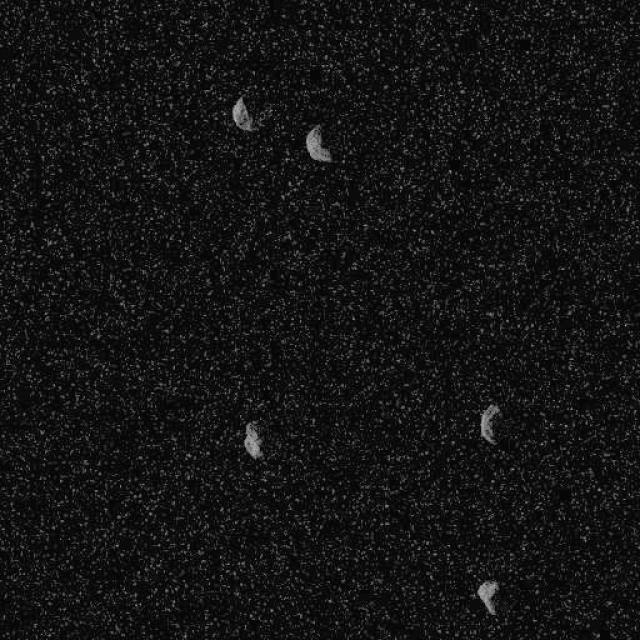D2: (304, 122, 332, 162), (230, 95, 255, 133), (479, 403, 501, 445), (475, 579, 499, 616), (242, 420, 264, 460)
